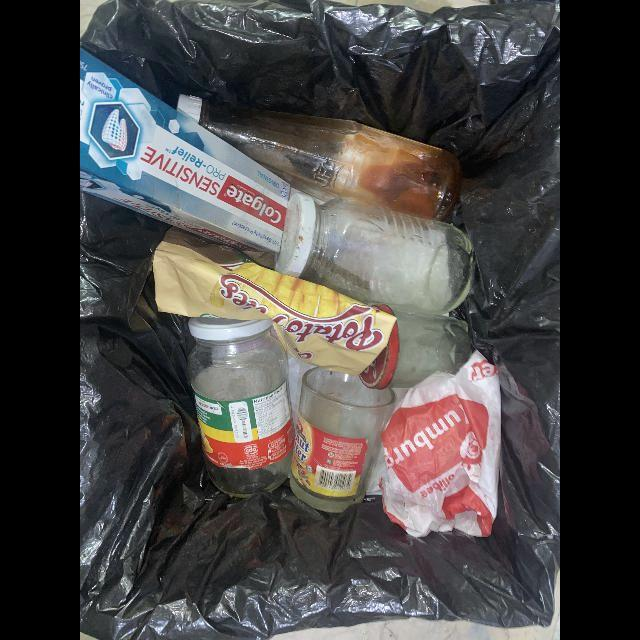cardboard: (80, 47, 291, 253)
food_wrapper: (152, 228, 397, 377)
glass_bottle: (177, 95, 463, 222), (278, 193, 473, 311), (188, 315, 294, 497), (290, 368, 396, 514), (359, 305, 471, 390)
paper: (381, 351, 501, 538)
